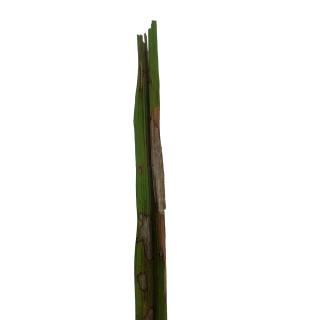Hawar-Daun: (144, 101, 168, 214), (138, 222, 156, 318)
